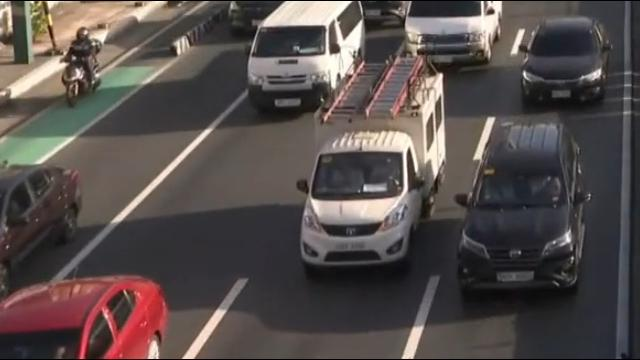car: (458, 126, 585, 298), (0, 277, 168, 360), (0, 162, 79, 274), (521, 16, 612, 101), (227, 0, 283, 32), (357, 0, 410, 30)
motorcycle: (56, 26, 103, 111)
truck: (296, 72, 443, 268)
van: (251, 0, 367, 118), (405, 0, 504, 65)
